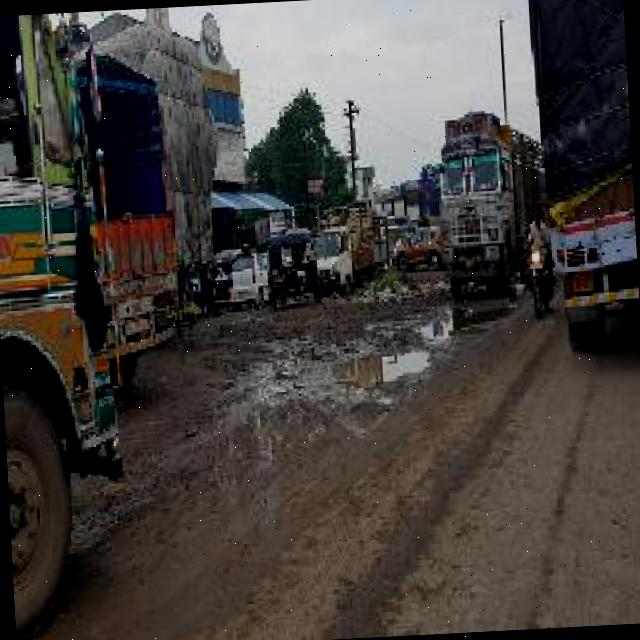waterlogging: (350, 300, 520, 396)
